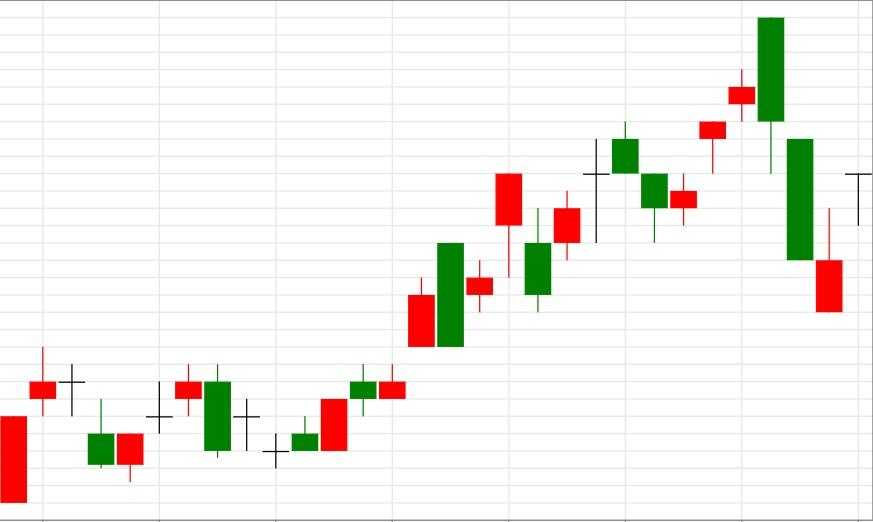bearish_engulfing_fall: (87, 364, 232, 483)
bullish_engulfing_rise: (175, 365, 349, 469)
three_white_soldiers_rise: (611, 69, 757, 244)
